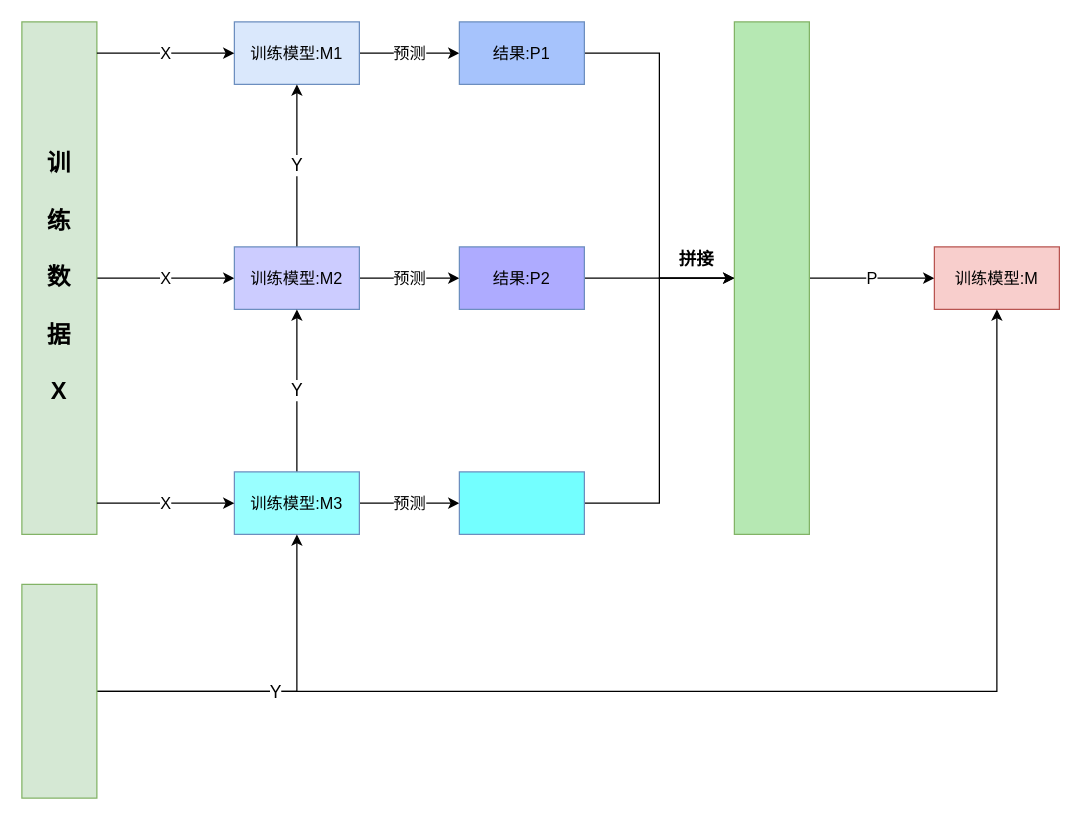
Some shapes in this 1081 by 820 pixel diagram are drawn without their labels. The centre of each missing label's shape, as x and y in pixels:
"Y 标 签" goes at (x=59, y=690).
"新 特 征 数 据 P" goes at (x=771, y=277).
"结果:P3" goes at (x=521, y=502).
